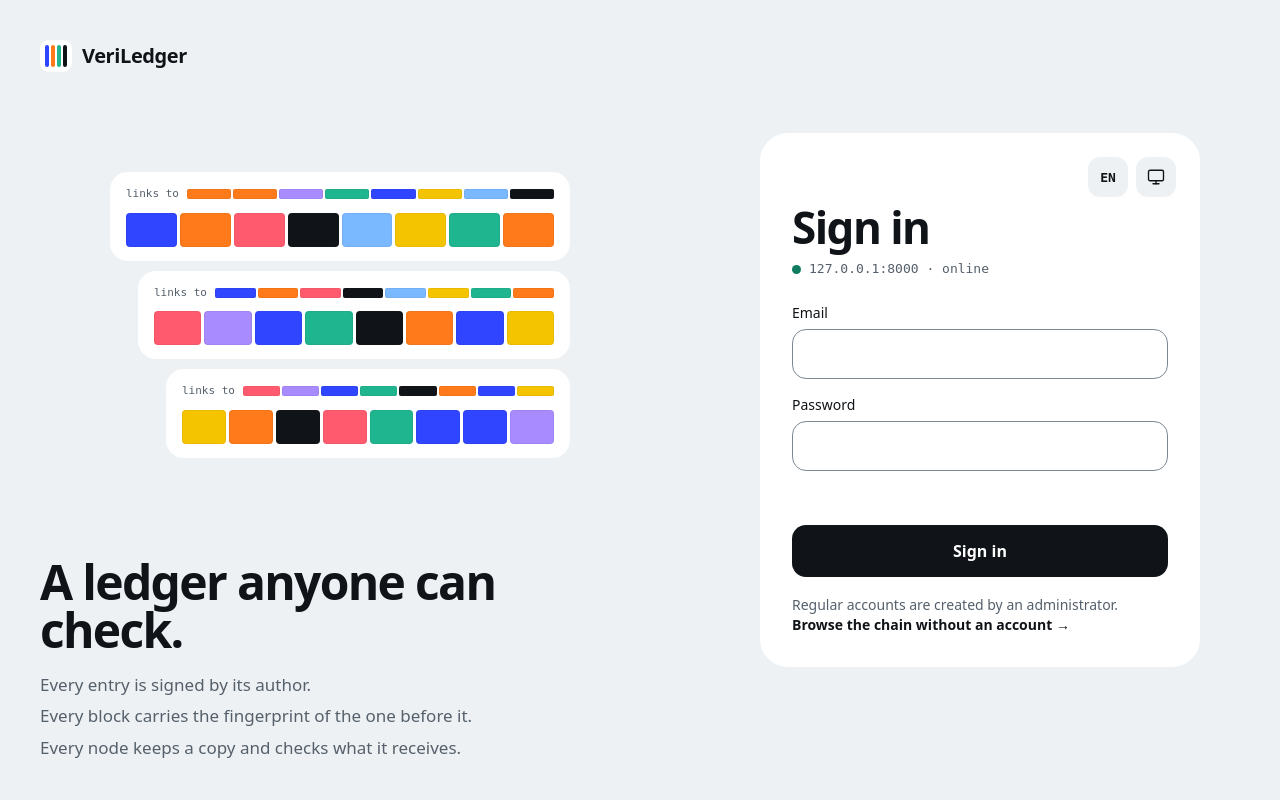
Test: Login › clears the error once the person edits a field
Type "trader@veriledger.test" into the field labelled "Email".
click(980, 354); type("trader@veriledger.test")  # box [792,329,1168,379]
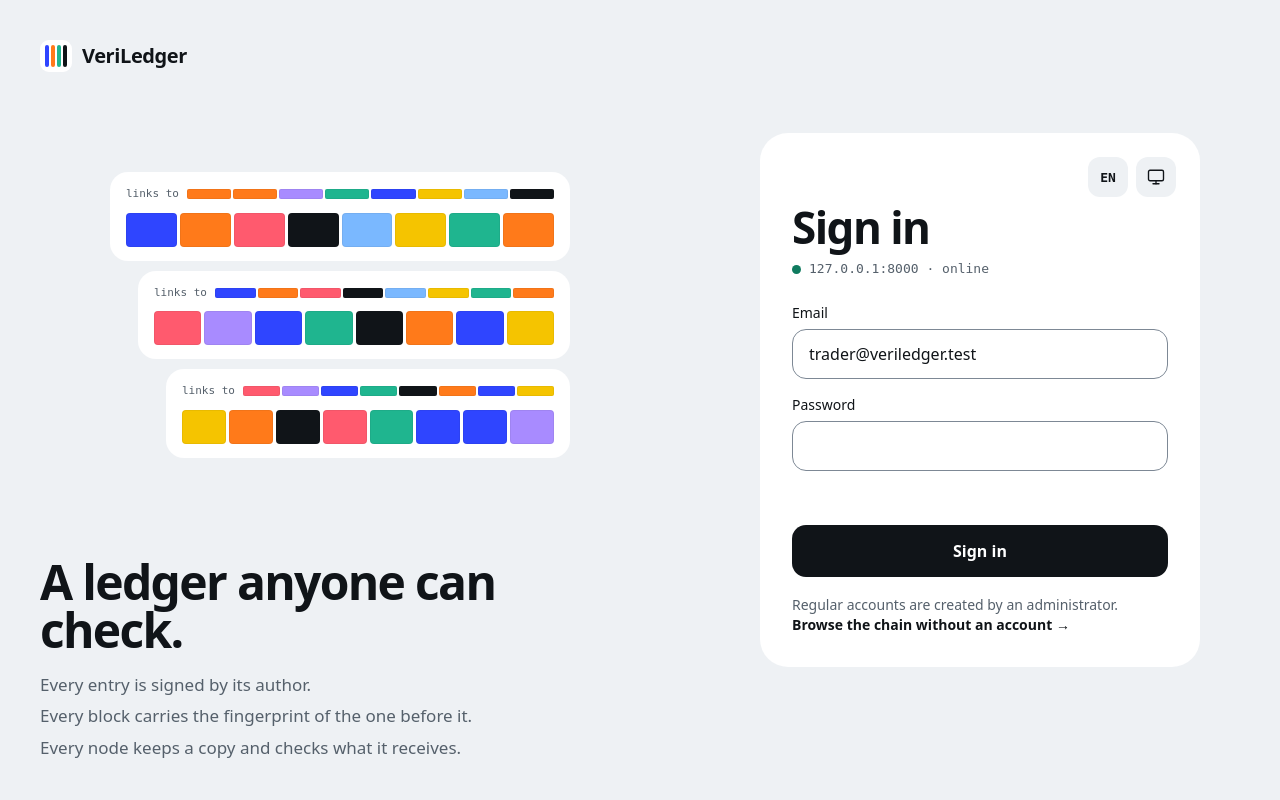
Type "a password" into the password field labelled "Password".
click(980, 446); type("a password")  # box [792,421,1168,471]
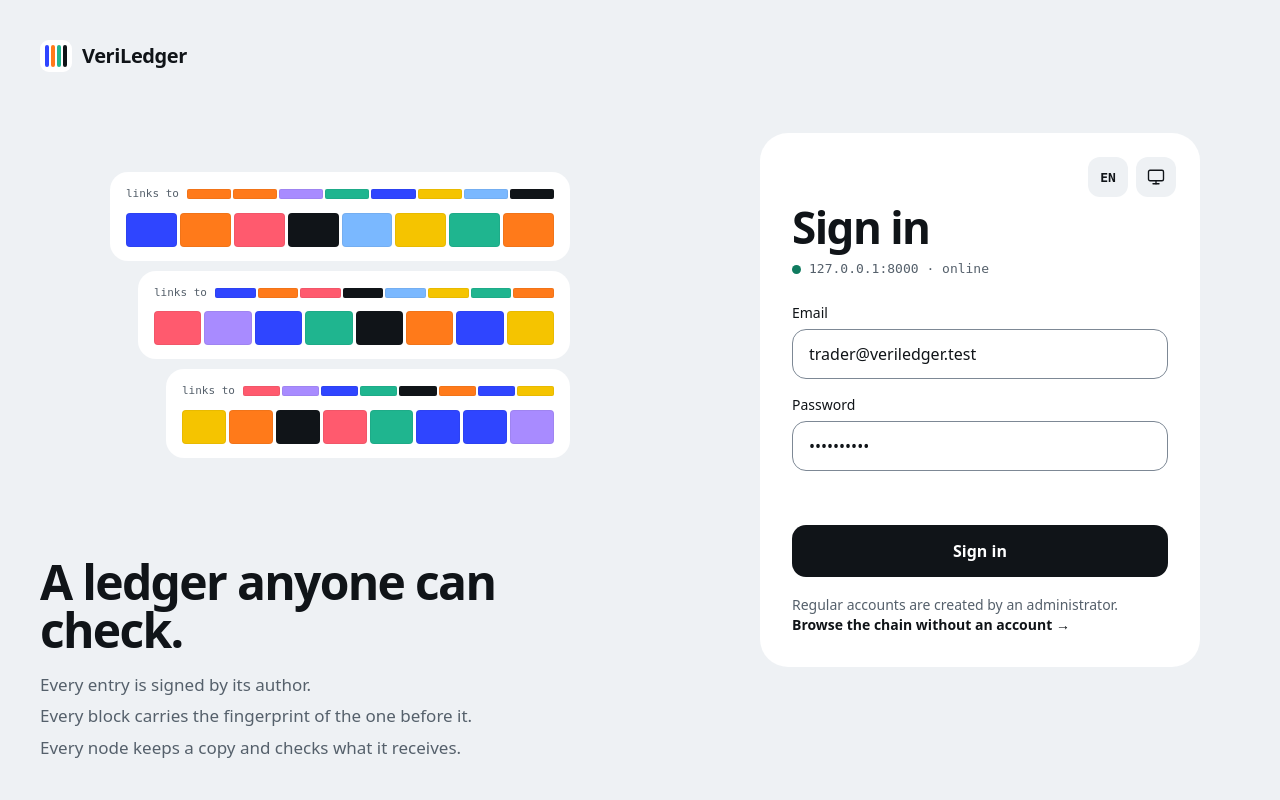
Submit the form "Sign in", box [792,303,1168,577]
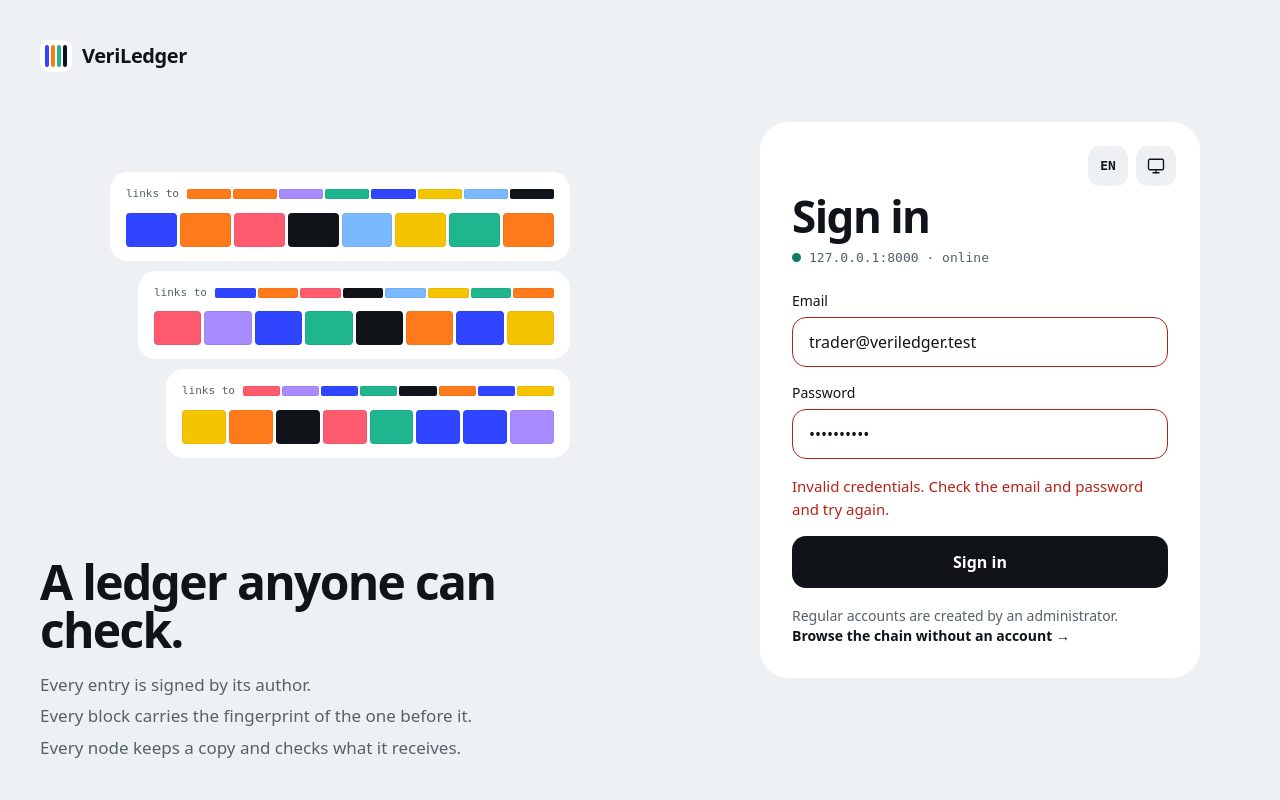
Check: the message "Invalid credentials. Check the email and password and try again." is shown, box [792,475,1168,520]
Type "another password" into the password field labelled "Password".
click(980, 434); type("another password")  # box [792,409,1168,459]
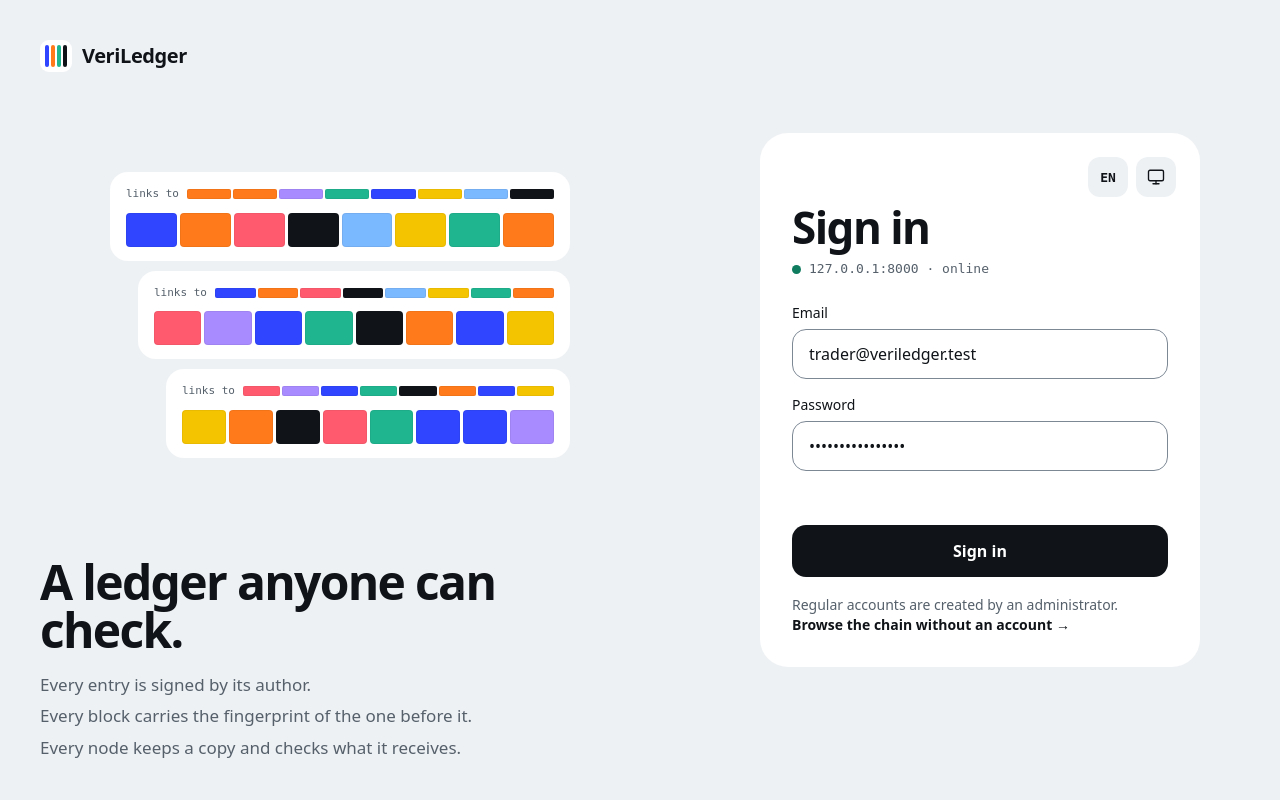
Check: the message "Invalid credentials. Check the email and password and try again." is gone
